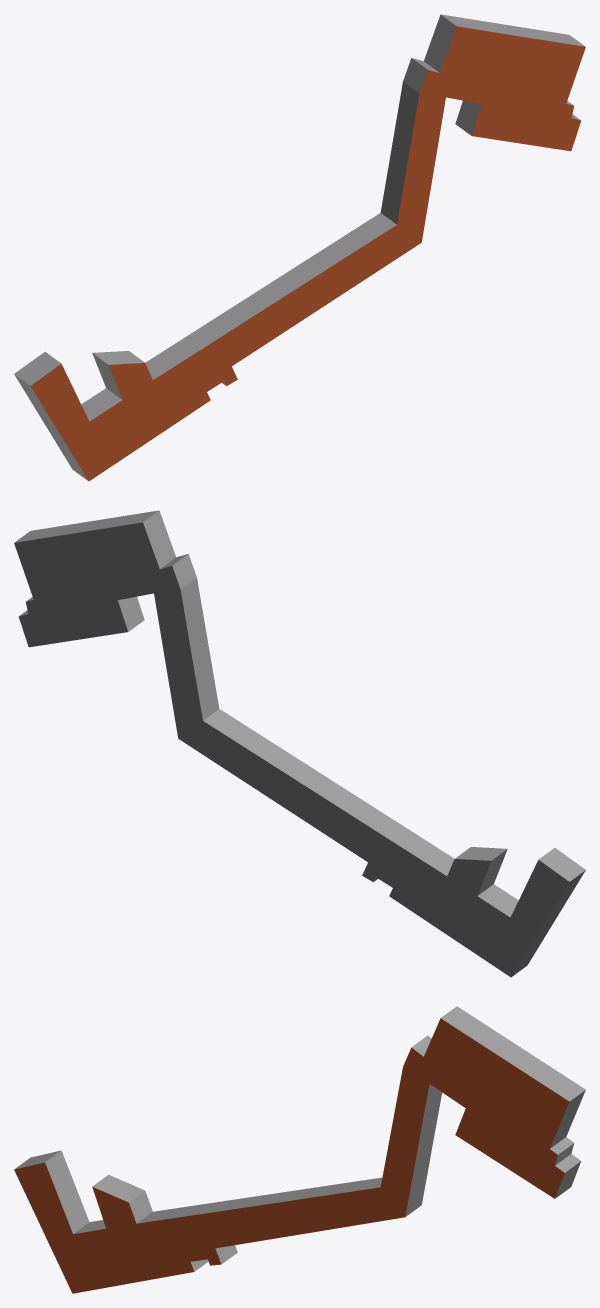
Rendered from construction_4646_assumed_A_Casa_h6m.obj.
3 renders of one model, top to bottom at view 1: azimuth 30°, elevation 25°; view 2: azimuth 150°, elevation 25°; view 3: azimuth 330°, elevation 25°, orthographic.
Visible parts, largest first — view 1: construction_4646_assumed_A_Casa; view 2: construction_4646_assumed_A_Casa; view 3: construction_4646_assumed_A_Casa.
Boxes of the visible parts, bbox=[...] form: construction_4646_assumed_A_Casa: bbox=[14, 14, 585, 481]; construction_4646_assumed_A_Casa: bbox=[14, 510, 585, 977]; construction_4646_assumed_A_Casa: bbox=[14, 1006, 585, 1293].
Bounding box in the file's own units: 117 × 73.59 × 6.
